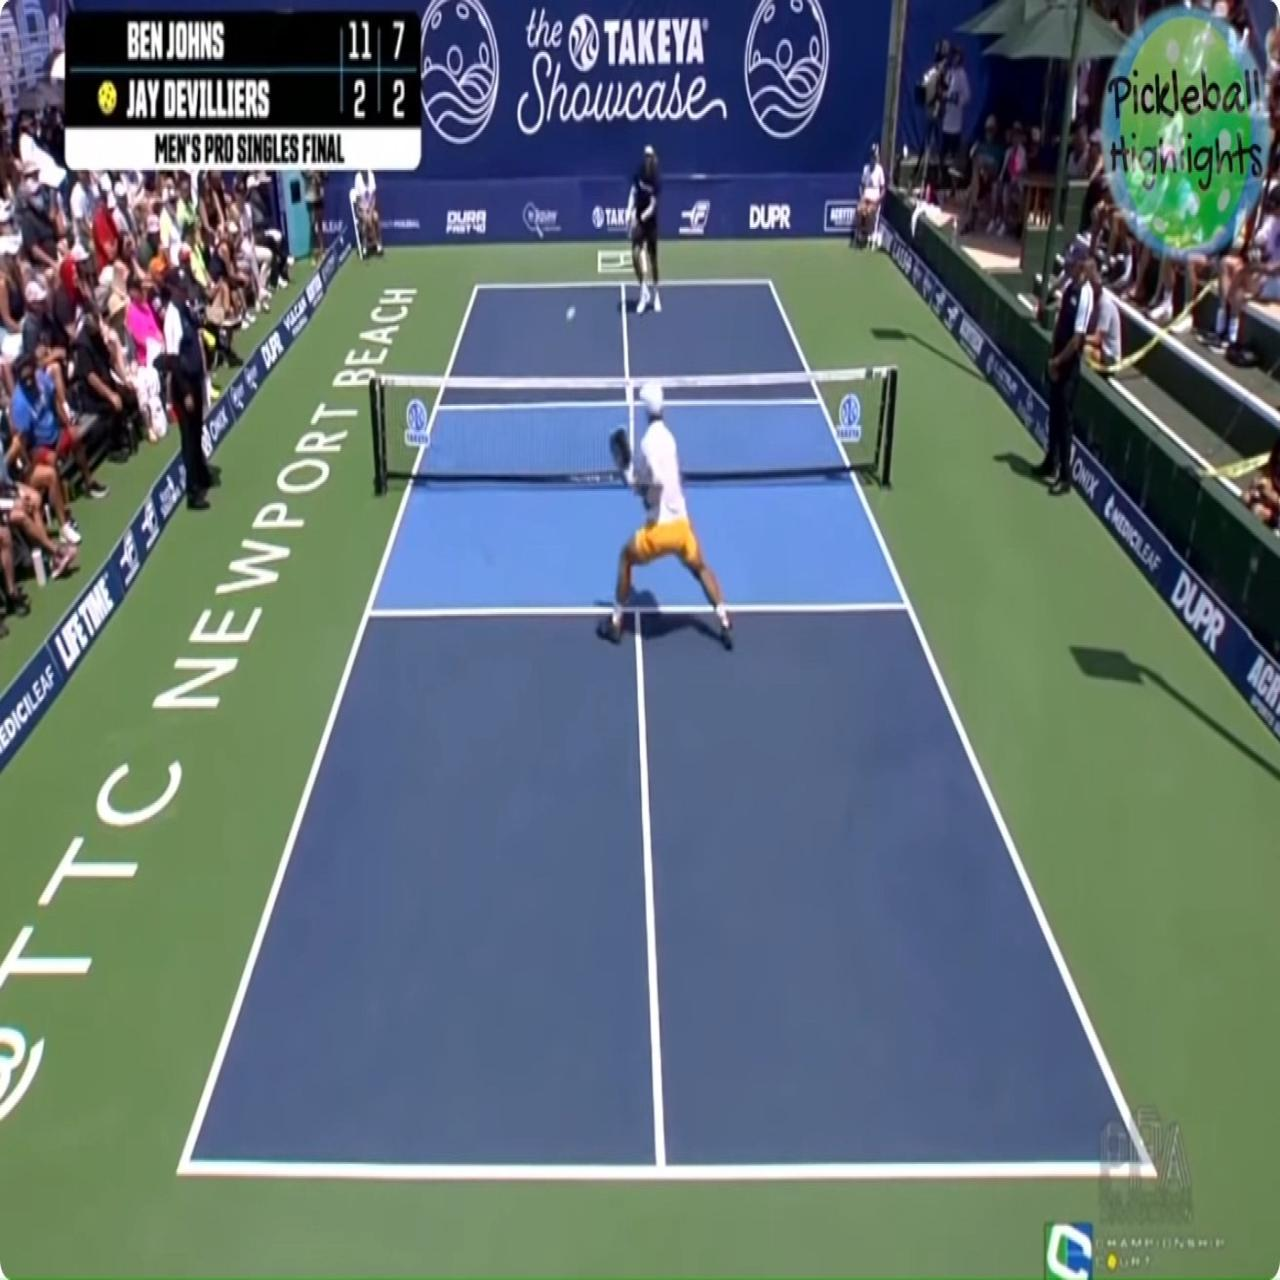pickleball: (565, 305, 577, 324)
